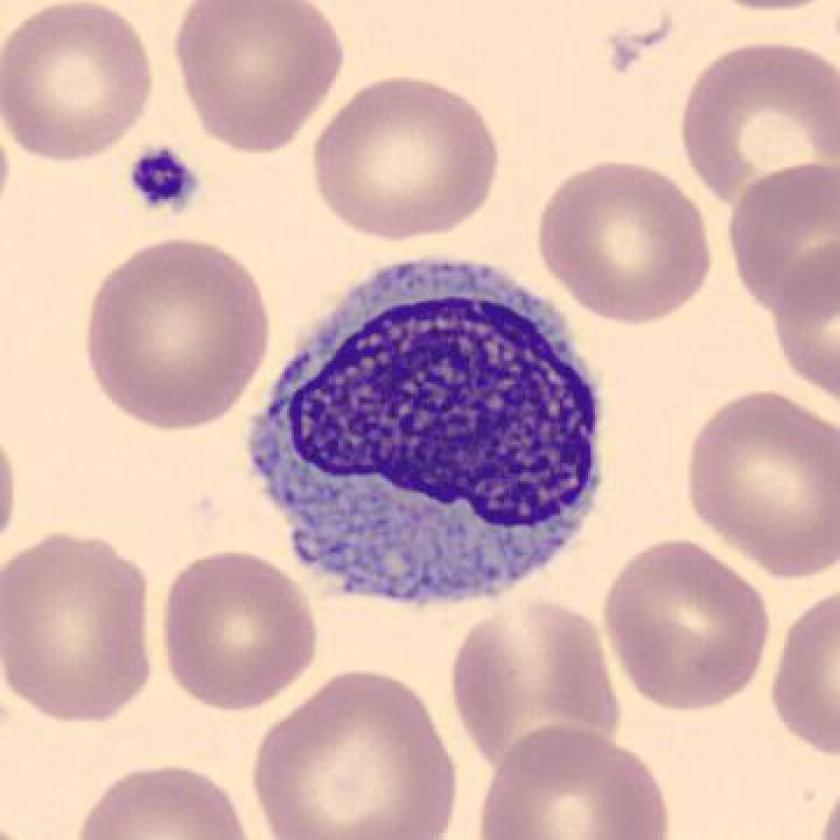monocyte: (234, 230, 624, 621)
